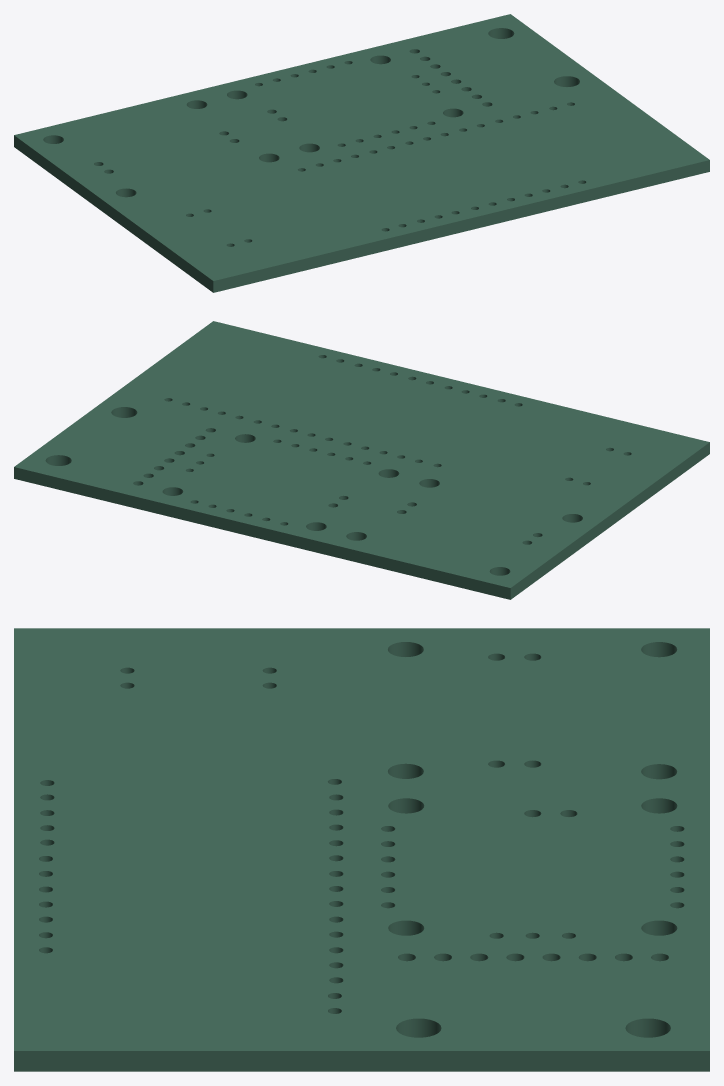
The model's file is E-01 Drive.glb.
3 renders of one model, top to bottom at view 1: azimuth 30°, elevation 25°; view 2: azimuth 150°, elevation 25°; view 3: azimuth 270°, elevation 25°, orthographic. The views are drawn at different scales.
Parts seen in each view (by area): view 1: =>[0:1:1:2]; view 2: =>[0:1:1:2]; view 3: =>[0:1:1:2].
Boxes of the visible parts, x1=… form: =>[0:1:1:2]: x1=14, y1=14, x2=709, y2=292; =>[0:1:1:2]: x1=14, y1=321, x2=709, y2=599; =>[0:1:1:2]: x1=14, y1=628, x2=709, y2=1071.
Size of the model in its own units: 0.0703 by 0.0016 by 0.0489.
